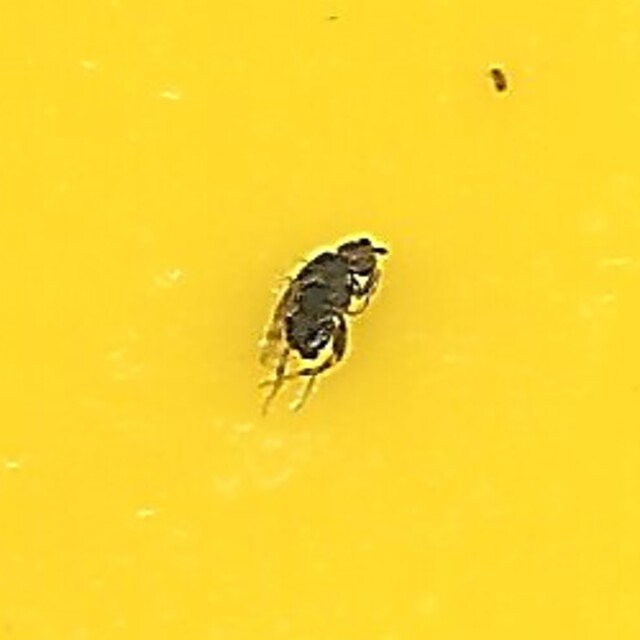Brachycera: (256, 236, 384, 404)
